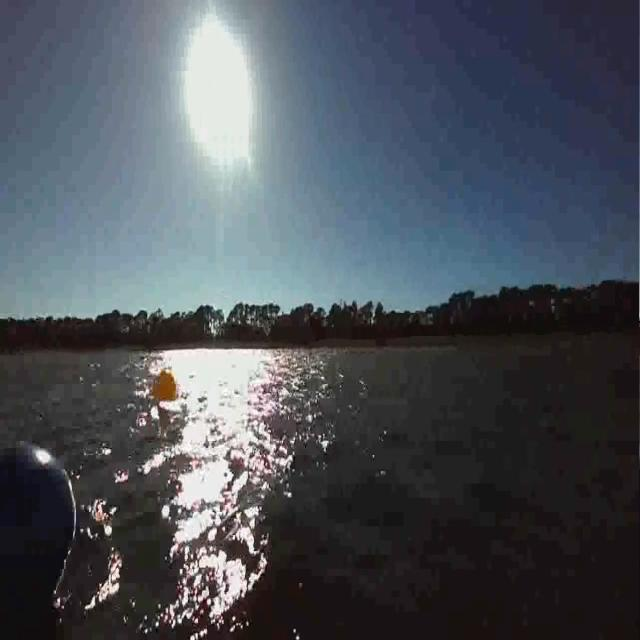blue-buoy: (0, 432, 81, 630)
yellow-buoy: (156, 370, 177, 406)
